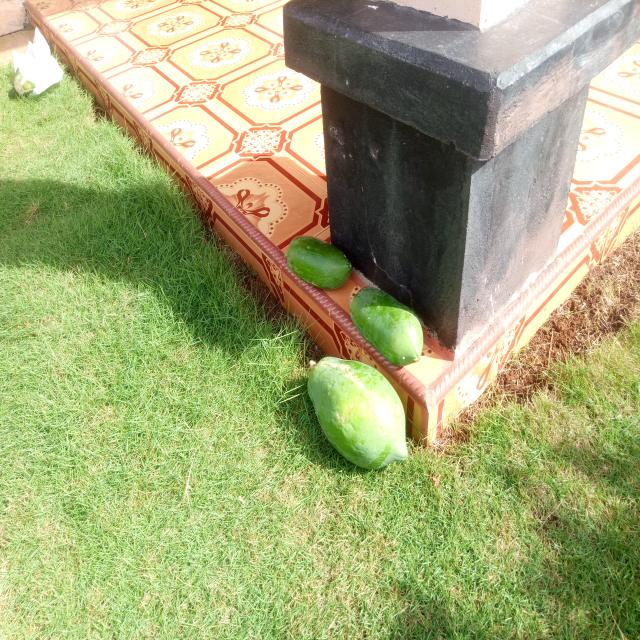Pepaya unrippen: (284, 346, 412, 479), (351, 289, 422, 356), (283, 226, 354, 287)
